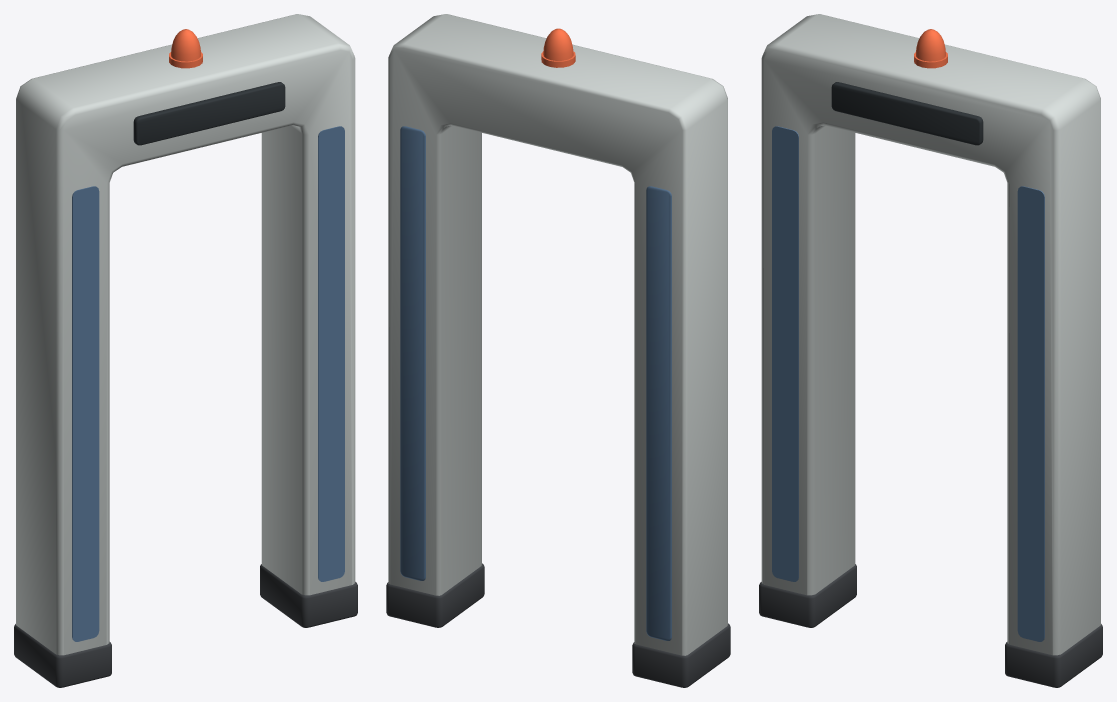
Rendered from portique_detection.glb.
The picture shows the model from 3 angles, left to right: view 1: azimuth 30°, elevation 25°; view 2: azimuth 150°, elevation 25°; view 3: azimuth 330°, elevation 25°; orthographic projection.
Parts seen in each view (by area): view 1: PDT_Etagere, PDT_Ardoise_Moyen, PDT_Anthracite, PDT_Ecran, PDT_Corail; view 2: PDT_Etagere, PDT_Ardoise_Moyen, PDT_Anthracite, PDT_Corail; view 3: PDT_Etagere, PDT_Ardoise_Moyen, PDT_Anthracite, PDT_Ecran, PDT_Corail.
Boxes of the visible parts, left/top/right/bottom form: PDT_Etagere: left=16, top=14, right=355, bottom=655; PDT_Ardoise_Moyen: left=72, top=126, right=344, bottom=641; PDT_Anthracite: left=14, top=564, right=357, bottom=687; PDT_Ecran: left=133, top=82, right=285, bottom=145; PDT_Corail: left=169, top=29, right=202, bottom=68; PDT_Etagere: left=388, top=14, right=727, bottom=655; PDT_Ardoise_Moyen: left=400, top=126, right=671, bottom=640; PDT_Anthracite: left=386, top=563, right=730, bottom=687; PDT_Corail: left=541, top=28, right=575, bottom=67; PDT_Etagere: left=761, top=14, right=1100, bottom=655; PDT_Ardoise_Moyen: left=772, top=126, right=1044, bottom=641; PDT_Anthracite: left=759, top=564, right=1102, bottom=687; PDT_Ecran: left=831, top=82, right=983, bottom=145; PDT_Corail: left=914, top=29, right=947, bottom=68.
Size of the model in its own units: 1.25 by 2.4 by 0.348.
